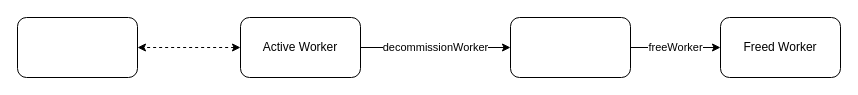
Some shapes in this 858 by 95 pixel diagram are drawn without their labels. The centre of each missing label's shape, as x and y in pixels:
Decommissioned Worker: the point at 570,47
Lost Worker: the point at 77,47
